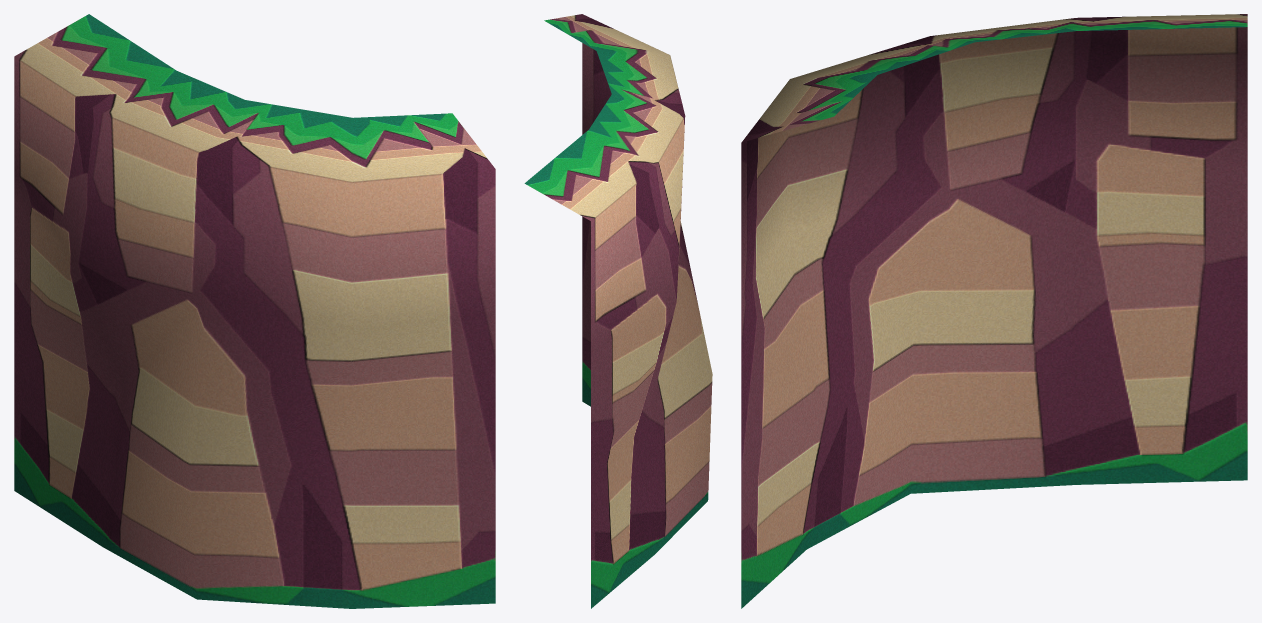
File: Wall2.FBX
3 renders of one model, left to right at view 1: azimuth 30°, elevation 25°; view 2: azimuth 150°, elevation 25°; view 3: azimuth 270°, elevation 25°, orthographic. The views are drawn at different scales.
Parts seen in each view (by area): view 1: Plane002; view 2: Plane002; view 3: Plane002.
Boxes of the visible parts, <box> form: Plane002: <box>14,14,495,608</box>; Plane002: <box>524,14,712,608</box>; Plane002: <box>741,14,1247,608</box>.
Size of the model in its own units: 14.18 by 23.75 by 22.12.
1 material, 1 textured.
